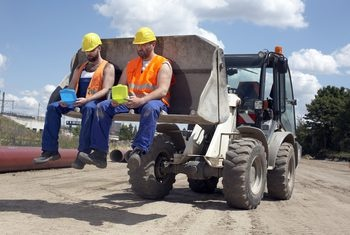yellow: (134, 26, 155, 57), (81, 32, 101, 60)
